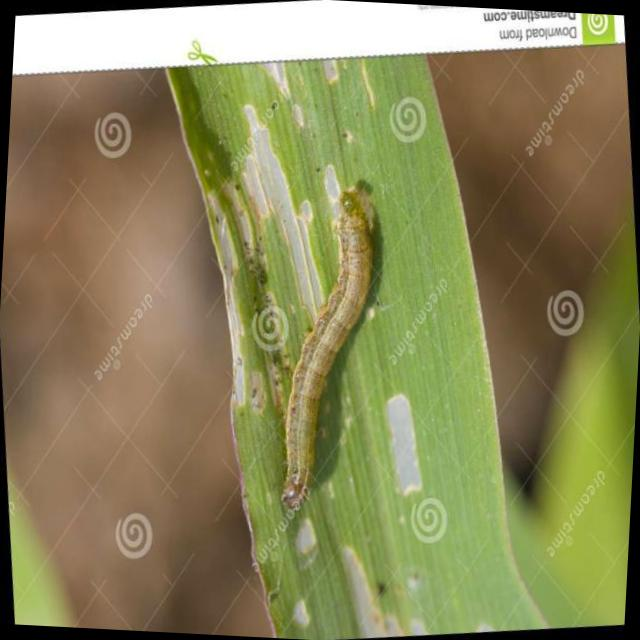pest: (280, 195, 375, 504)
